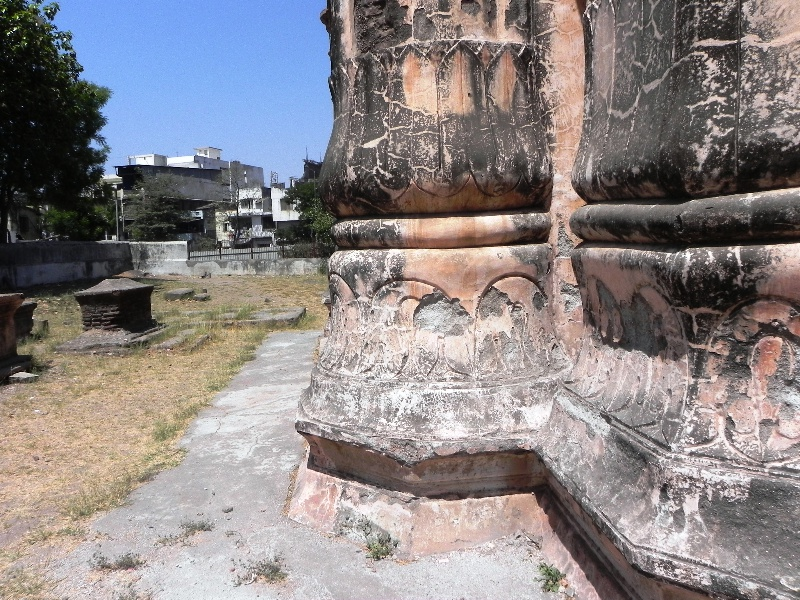Spalling: (597, 281, 663, 363), (412, 286, 471, 333), (475, 285, 511, 326)
